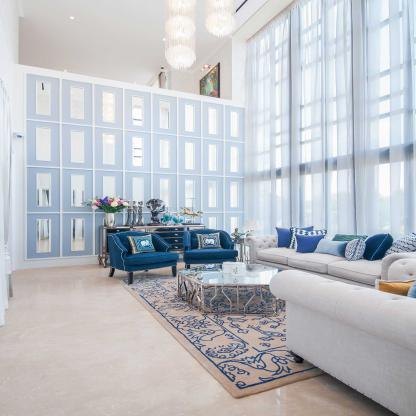bantal: (366, 232, 389, 257), (129, 235, 157, 254), (294, 232, 320, 250), (318, 238, 344, 256), (345, 239, 364, 262), (198, 233, 221, 249)
sova: (249, 225, 416, 288), (106, 231, 180, 281), (182, 228, 240, 266)
tanaman: (95, 194, 124, 219)
